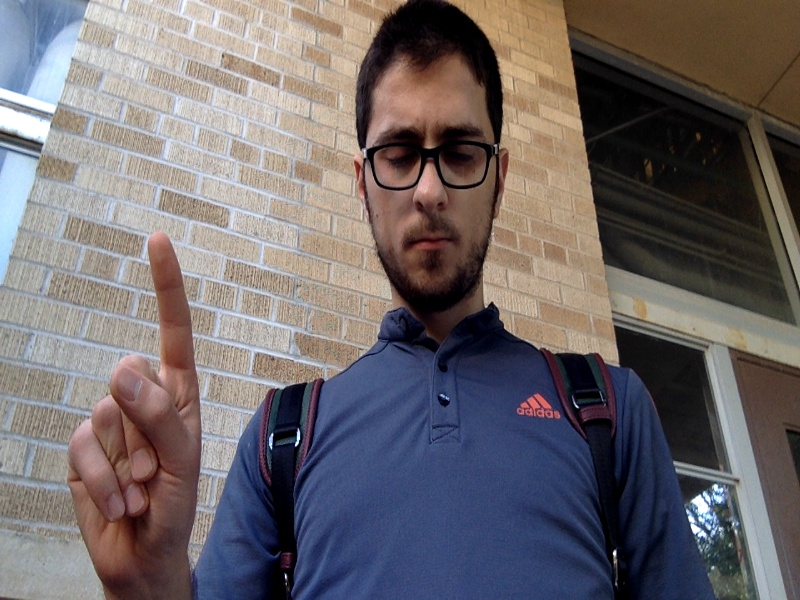1-hand: (69, 235, 201, 592)
